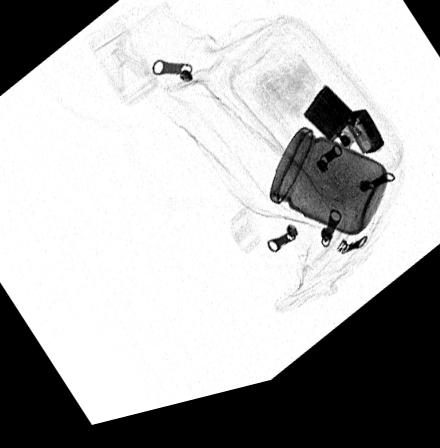Lighter: (303, 101, 385, 171)
